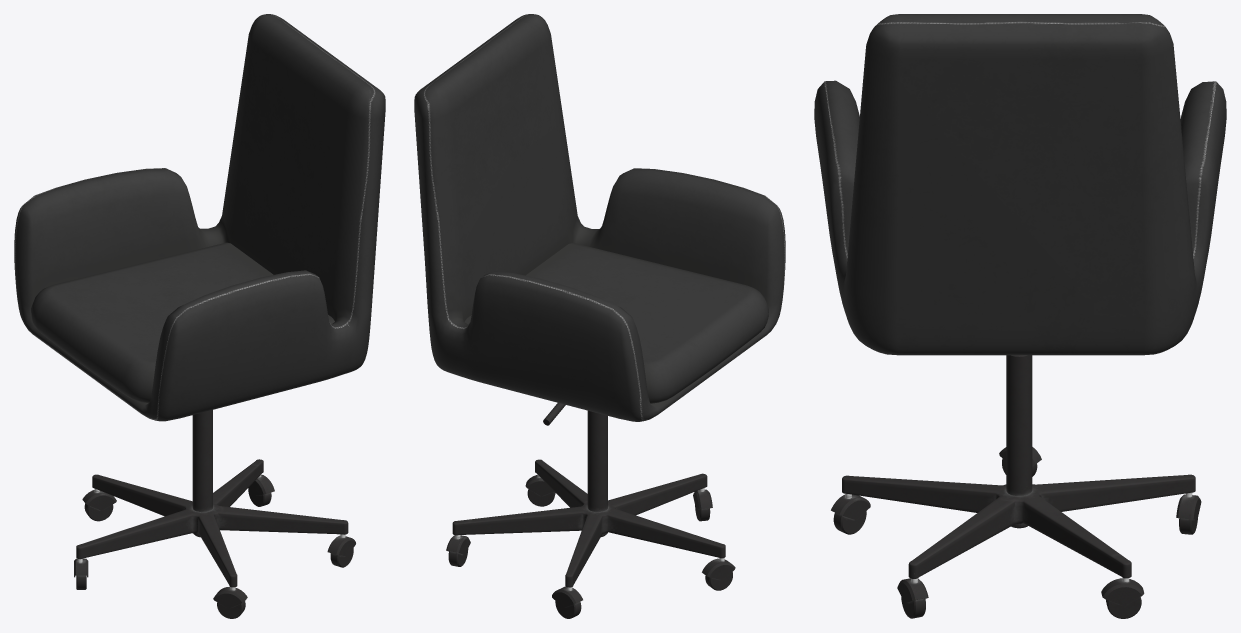
The model's file is SM_OfficeChairLeatherSBlack.fbx.
3 views of the same model, side by side, from view 1: azimuth 30°, elevation 25°; view 2: azimuth 150°, elevation 25°; view 3: azimuth 270°, elevation 25° (orthographic). The views are drawn at different scales.
Parts seen in each view (by area): view 1: SM_OfficeChairLeatherSBlack_LOD0; view 2: SM_OfficeChairLeatherSBlack_LOD0; view 3: SM_OfficeChairLeatherSBlack_LOD0.
Boxes of the visible parts, bbox=[...] form: SM_OfficeChairLeatherSBlack_LOD0: bbox=[14, 14, 385, 618]; SM_OfficeChairLeatherSBlack_LOD0: bbox=[414, 14, 785, 618]; SM_OfficeChairLeatherSBlack_LOD0: bbox=[814, 14, 1226, 618].
Bounding box in the file's own units: 72.72 × 76.75 × 125.
Materials: 1 (1 with a texture image).
